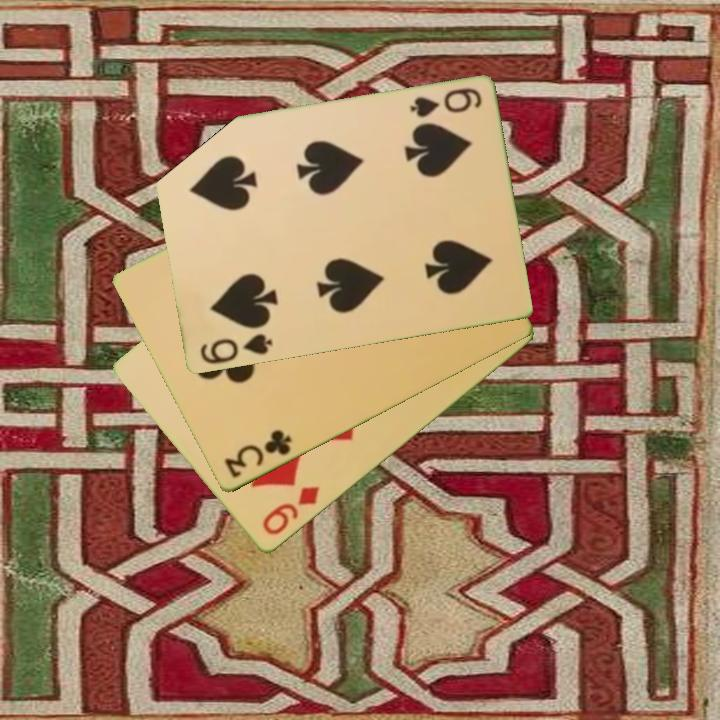3c: (220, 426, 295, 482)
6s: (196, 330, 275, 368), (406, 85, 484, 121)
9d: (258, 483, 322, 539)
